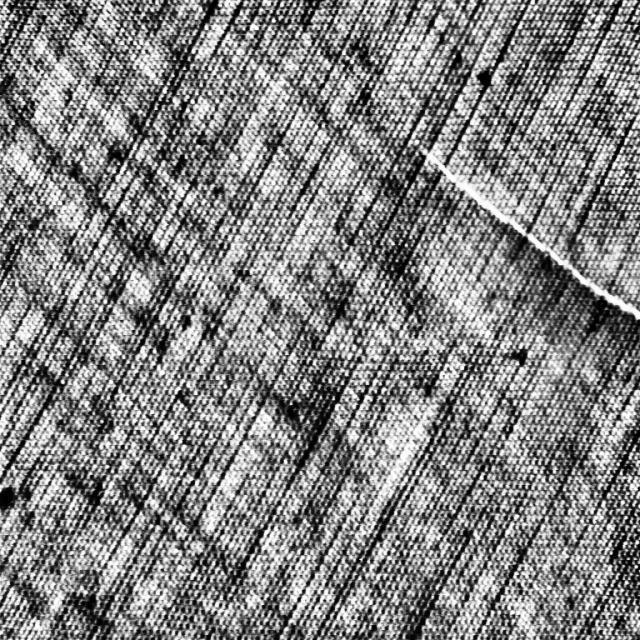gray stitch: (403, 135, 639, 323)
